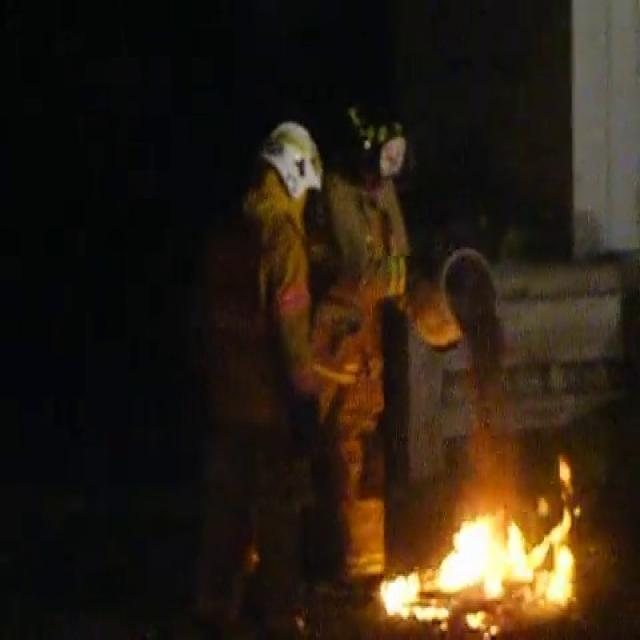Fire: (382, 462, 586, 631)
